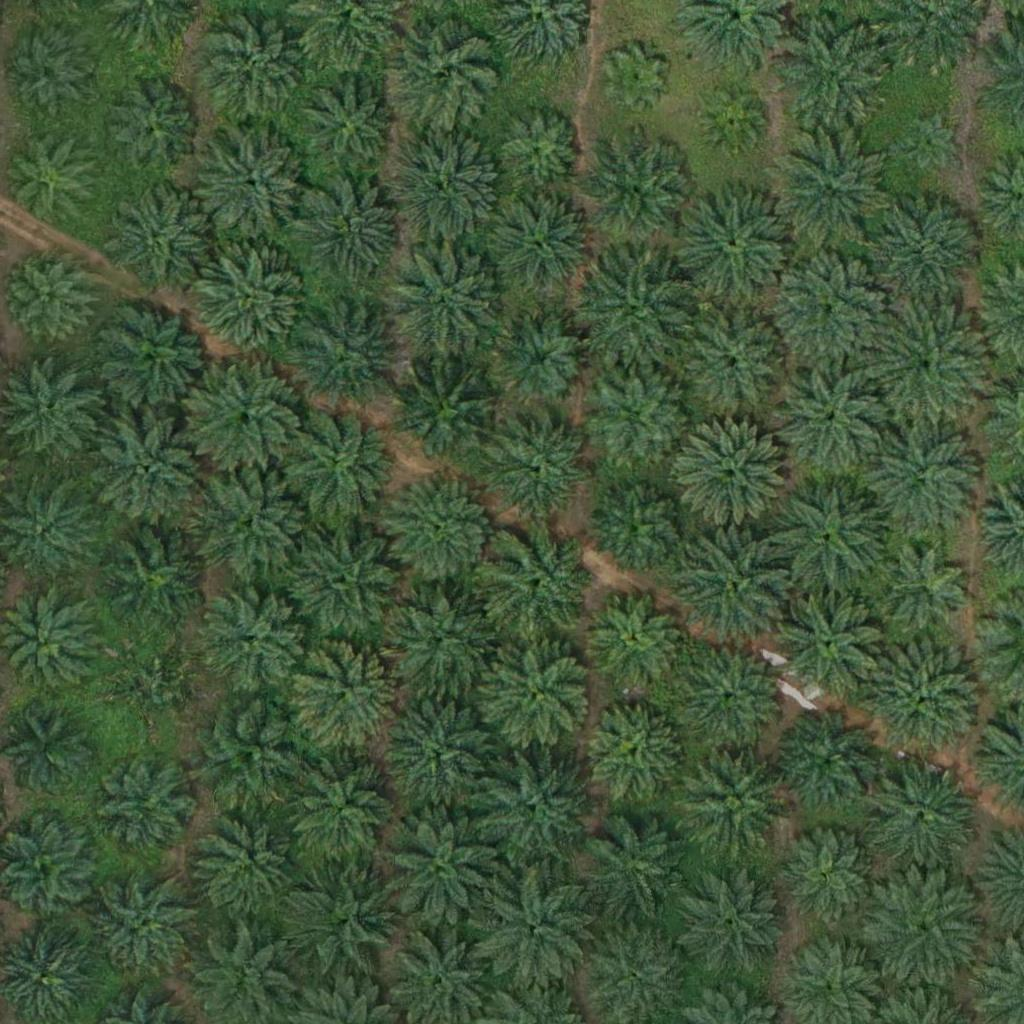Kelapa_Sawit: (393, 355, 506, 469), (101, 180, 214, 294), (278, 407, 391, 521), (385, 473, 498, 587), (483, 526, 596, 640), (480, 637, 593, 751), (581, 809, 694, 923), (771, 129, 884, 242), (775, 252, 888, 365), (677, 189, 790, 302), (385, 18, 498, 131), (389, 131, 502, 244), (390, 246, 503, 359), (292, 76, 405, 189), (93, 301, 206, 414), (92, 416, 205, 529), (95, 522, 208, 635), (193, 704, 306, 817), (381, 586, 494, 699), (677, 419, 790, 532), (770, 364, 883, 477), (773, 478, 886, 591), (774, 583, 887, 696), (868, 643, 981, 756), (865, 759, 978, 872), (870, 873, 983, 986), (478, 753, 591, 866), (480, 875, 593, 988), (288, 295, 400, 409), (198, 126, 310, 240), (194, 247, 306, 361), (675, 744, 787, 858), (674, 868, 786, 982), (869, 194, 981, 307), (871, 307, 983, 420), (780, 18, 892, 131), (677, 308, 789, 421), (581, 135, 693, 248), (580, 257, 692, 370), (483, 193, 595, 306), (293, 178, 405, 291), (199, 10, 311, 123), (189, 362, 301, 475), (194, 466, 306, 579), (195, 584, 307, 697), (290, 525, 402, 638), (291, 640, 403, 753), (388, 693, 500, 806), (675, 532, 787, 645), (673, 642, 785, 755), (865, 425, 977, 538), (386, 812, 498, 925), (286, 756, 398, 869), (289, 871, 401, 984), (91, 871, 203, 984), (491, 310, 591, 411), (591, 365, 691, 466), (592, 475, 692, 576), (776, 710, 876, 811), (876, 543, 976, 644), (193, 815, 293, 916), (100, 754, 200, 855), (100, 83, 200, 183), (494, 415, 594, 515), (590, 590, 690, 690), (586, 702, 686, 802), (777, 829, 877, 929), (495, 103, 583, 191), (116, 646, 203, 735), (1, 34, 88, 122), (8, 253, 95, 341), (701, 90, 764, 153), (604, 47, 667, 110), (898, 110, 960, 173)
